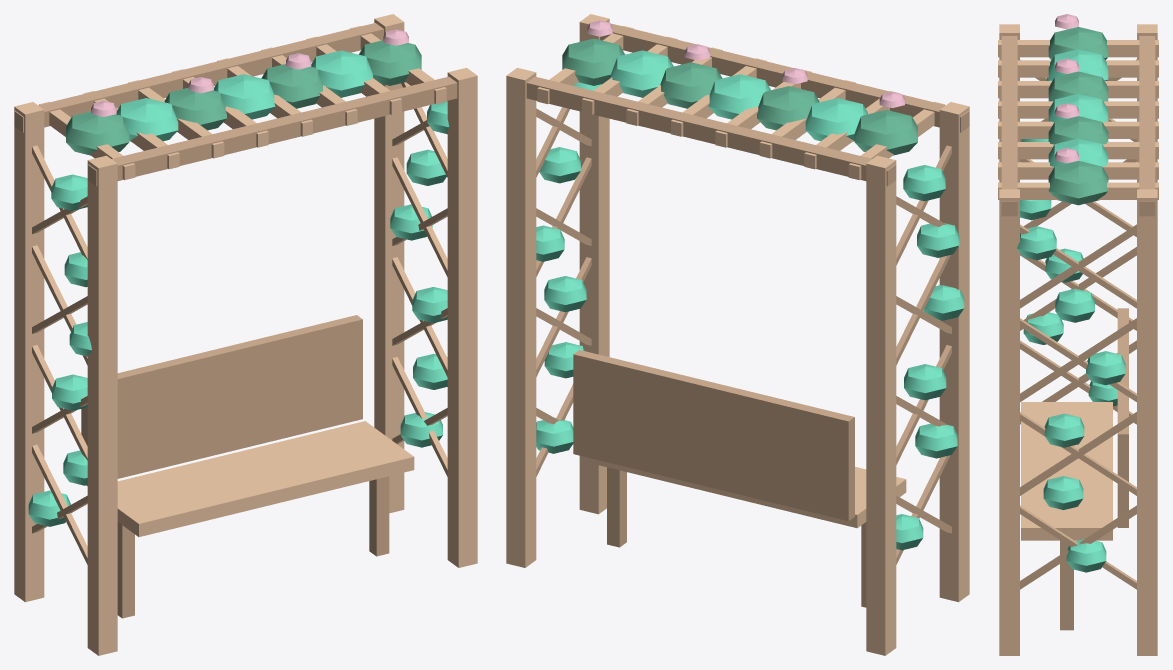
File: gardenArbour.glb
3 renders of one model, left to right at view 1: azimuth 30°, elevation 25°; view 2: azimuth 150°, elevation 25°; view 3: azimuth 270°, elevation 25°, orthographic. The views are drawn at different scales.
Parts seen in each view (by area): view 1: gardenArbour; view 2: gardenArbour; view 3: gardenArbour.
Boxes of the visible parts, box(x1,y1,x2,y2) form: gardenArbour: box(14, 14, 477, 655); gardenArbour: box(506, 14, 969, 655); gardenArbour: box(998, 14, 1158, 655).
Size of the model in its own units: 0.95 by 1.16 by 0.35.
